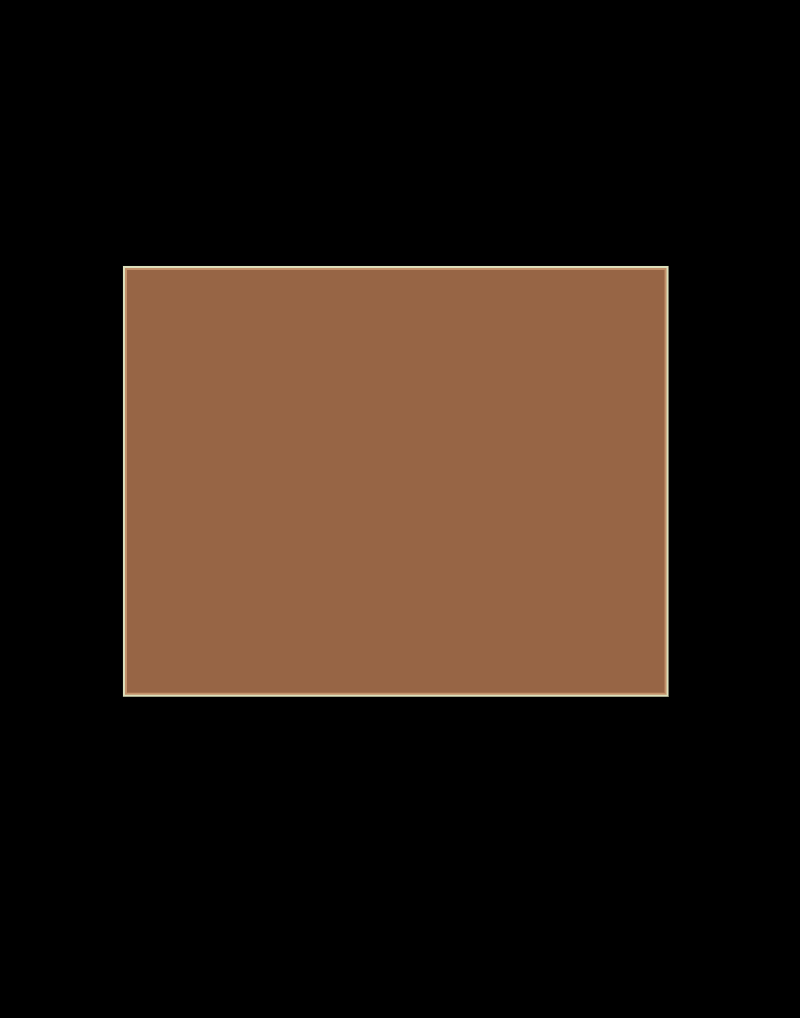Person: (124, 267, 666, 694)
